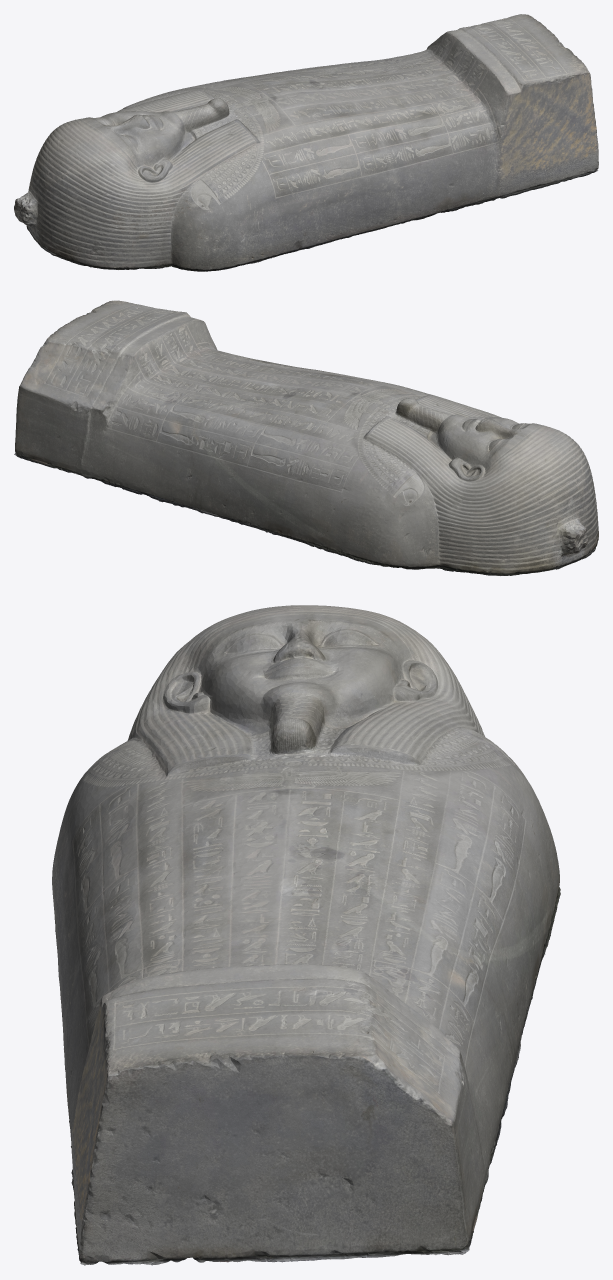
The model's file is doctor-scaled.obj.
The picture shows the model from 3 angles, top to bottom: view 1: azimuth 30°, elevation 25°; view 2: azimuth 150°, elevation 25°; view 3: azimuth 270°, elevation 25°; orthographic projection. The views are drawn at different scales.
Visible parts, largest first — view 1: doctor-scaled; view 2: doctor-scaled; view 3: doctor-scaled.
Part boxes in pixels (x1,y1,x2,y2): doctor-scaled: [14, 14, 598, 271]; doctor-scaled: [14, 300, 598, 576]; doctor-scaled: [52, 605, 560, 1265].
Bounding box in the file's own units: 2.51 × 0.5364 × 1.07.
4 materials, 4 textured.
